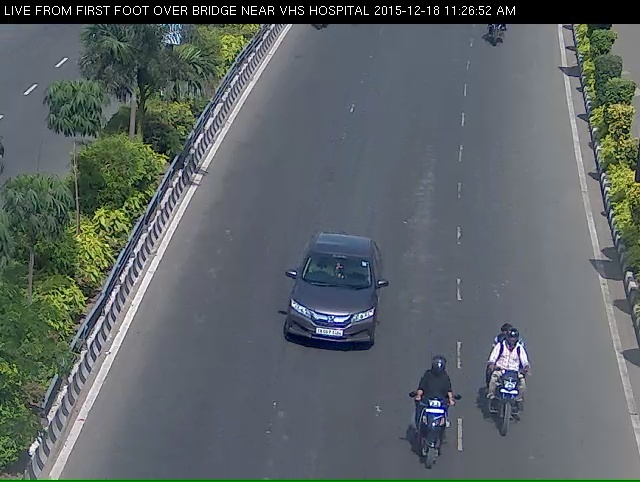Car: (270, 253, 378, 385)
Person: (481, 351, 543, 461), (411, 391, 465, 472)
